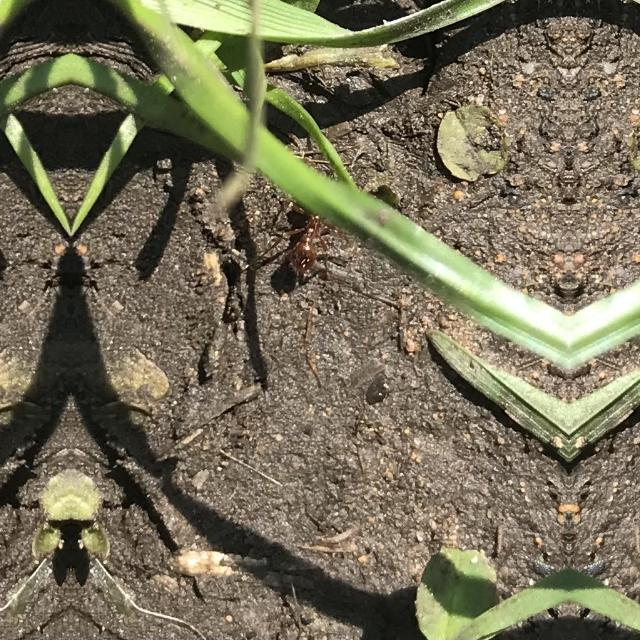Myrmica: (283, 198, 333, 280)
